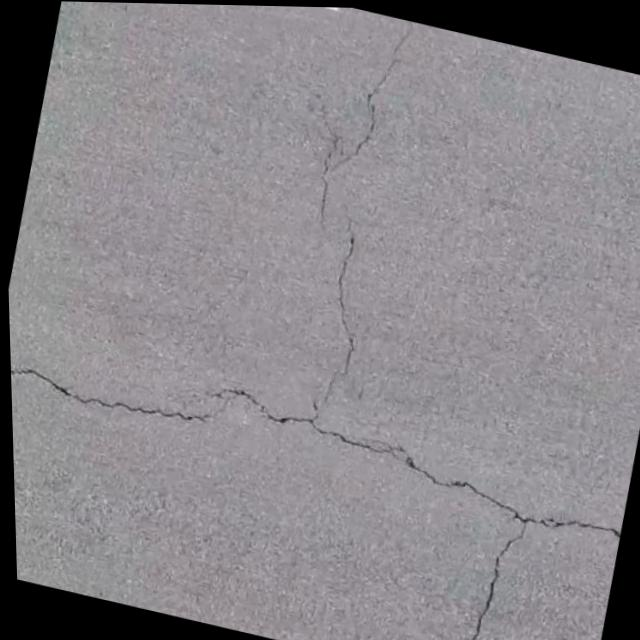Crack: (8, 343, 627, 560), (269, 6, 437, 454), (431, 478, 550, 640)
